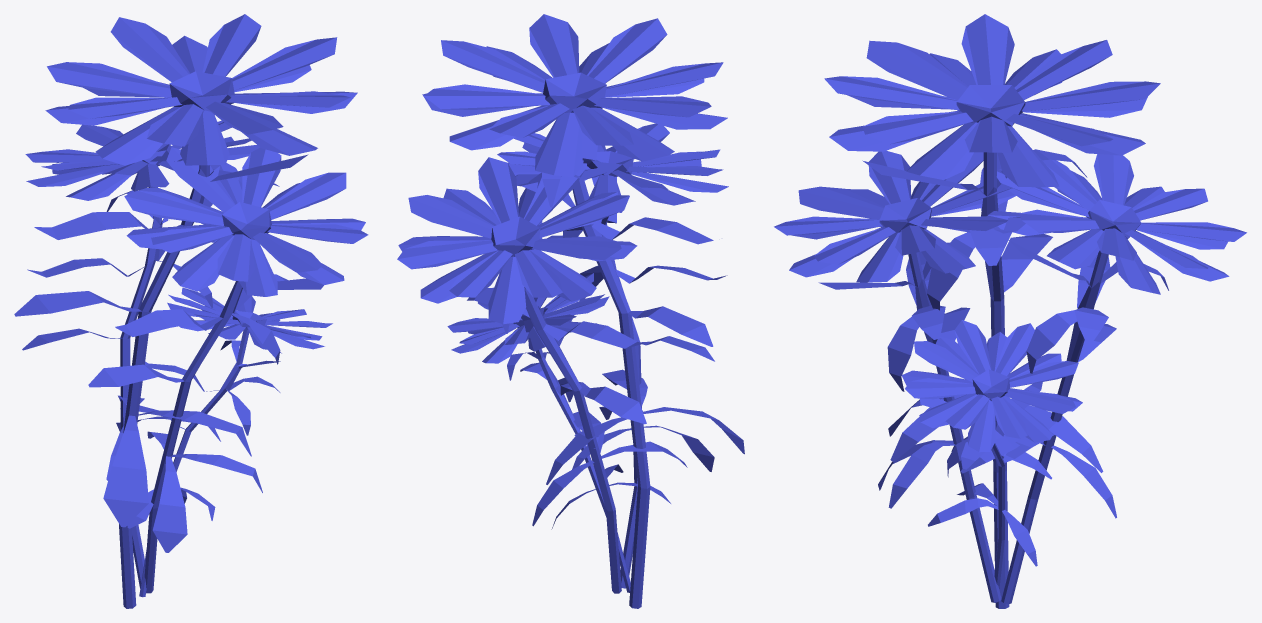
File: papatya.fbx
The picture shows the model from 3 angles, left to right: view 1: azimuth 30°, elevation 25°; view 2: azimuth 150°, elevation 25°; view 3: azimuth 270°, elevation 25°; orthographic projection. The views are drawn at different scales.
Parts seen in each view (by area): view 1: papatya.001; view 2: papatya.001; view 3: papatya.001.
Part boxes in pixels (x1,y1,x2,y2): papatya.001: (14,14,368,608); papatya.001: (397,14,744,608); papatya.001: (774,14,1246,608).
Size of the model in its own units: 31.09 by 51.9 by 39.72.
